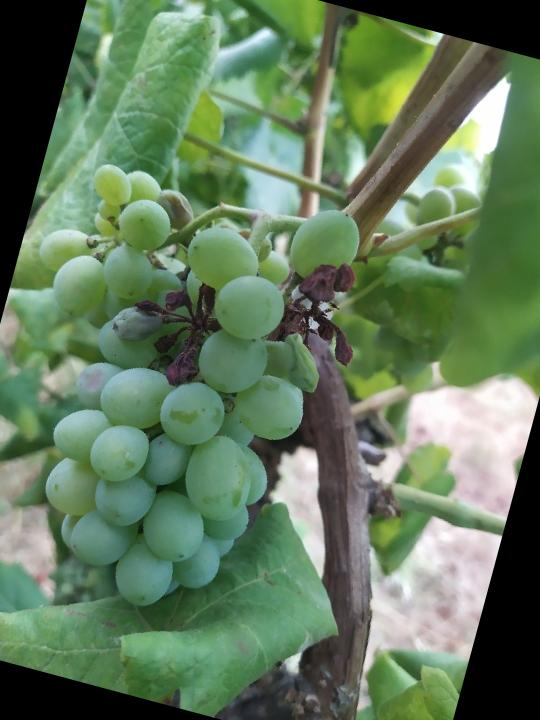grape: (0, 134, 393, 646)
